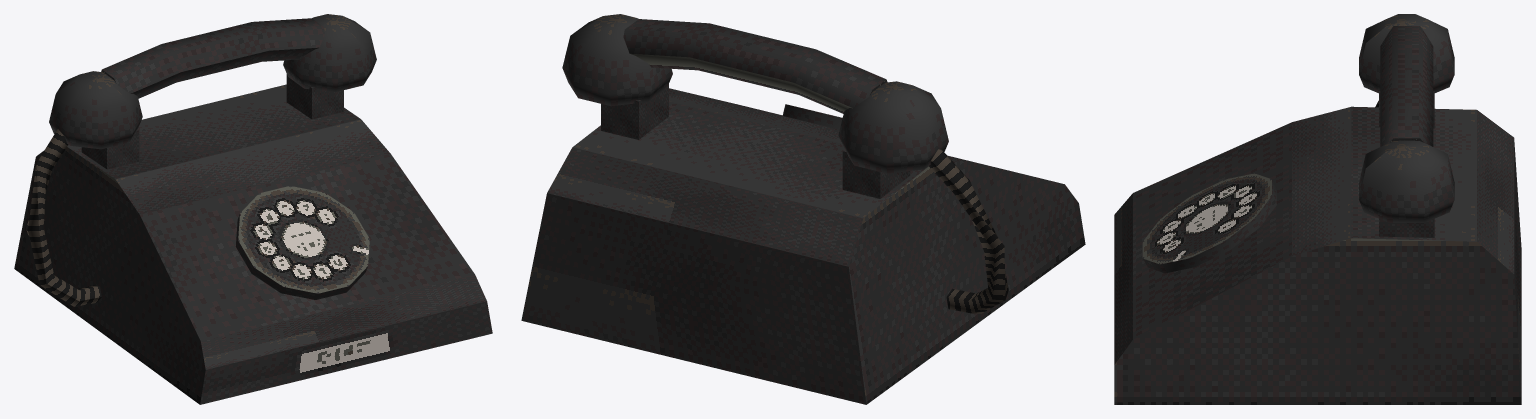
Rendered from phone_rotary.glb.
The picture shows the model from 3 angles, left to right: view 1: azimuth 30°, elevation 25°; view 2: azimuth 150°, elevation 25°; view 3: azimuth 270°, elevation 25°; orthographic projection. The views are drawn at different scales.
Parts seen in each view (by area): view 1: phone_rotary; view 2: phone_rotary; view 3: phone_rotary.
Boxes of the visible parts, x1,y1,x2,y2 form: phone_rotary: (14, 14, 492, 404); phone_rotary: (521, 14, 1085, 404); phone_rotary: (1114, 14, 1521, 404).
Size of the model in its own units: 0.2412 by 0.1529 by 0.22.
1 material, 1 textured.
